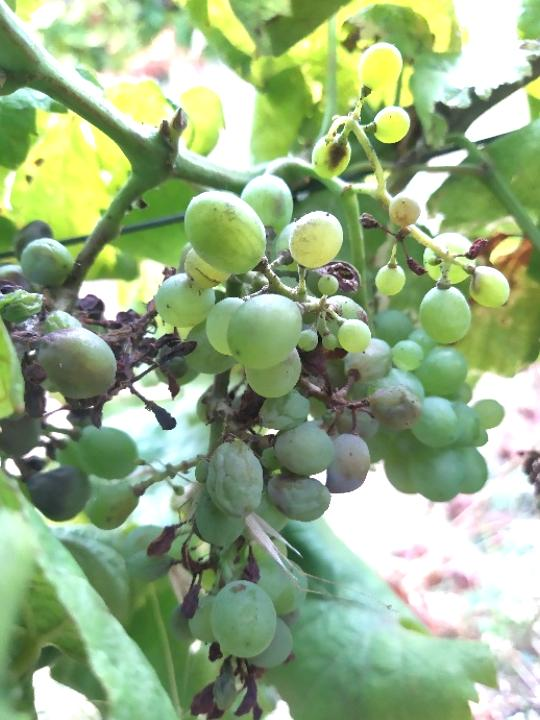grape: (146, 179, 502, 720)
